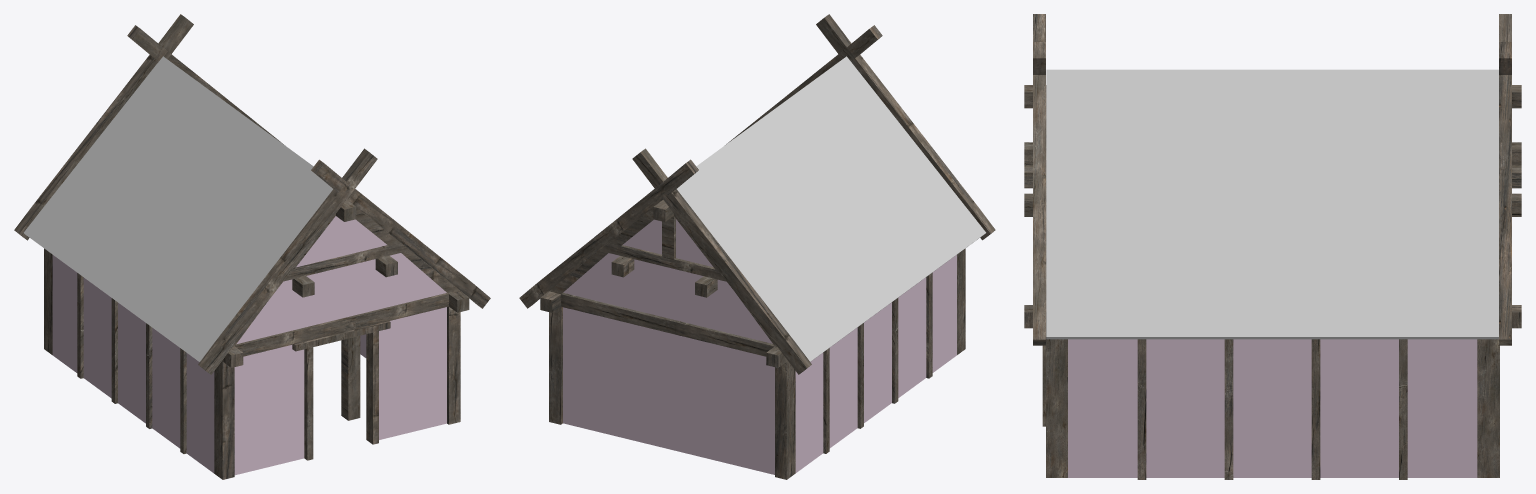
The model's file is SM_Viking_hut_V01.fbx.
The picture shows the model from 3 angles, left to right: view 1: azimuth 30°, elevation 25°; view 2: azimuth 150°, elevation 25°; view 3: azimuth 270°, elevation 25°; orthographic projection. The views are drawn at different scales.
Visible parts, largest first — view 1: Hut_base_01; view 2: Hut_base_01; view 3: Hut_base_01.
Boxes of the visible parts, x1=… form: Hut_base_01: x1=14, y1=14, x2=490, y2=479; Hut_base_01: x1=519, y1=14, x2=995, y2=479; Hut_base_01: x1=1024, y1=14, x2=1521, y2=479.
Size of the model in its own units: 484 by 477 by 571.
